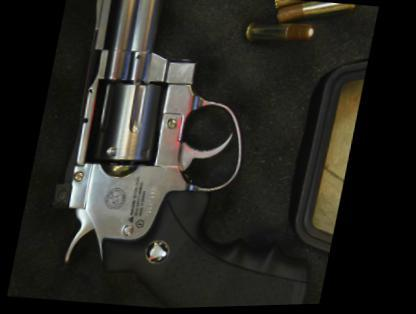pistol: (32, 0, 365, 310)
